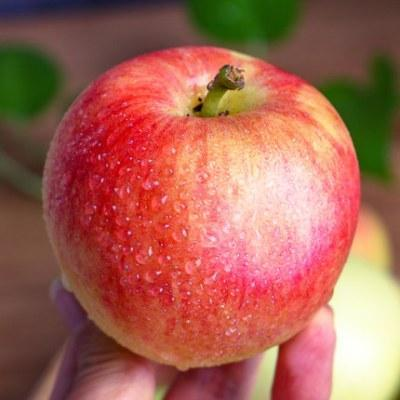apple: (47, 47, 362, 370)
